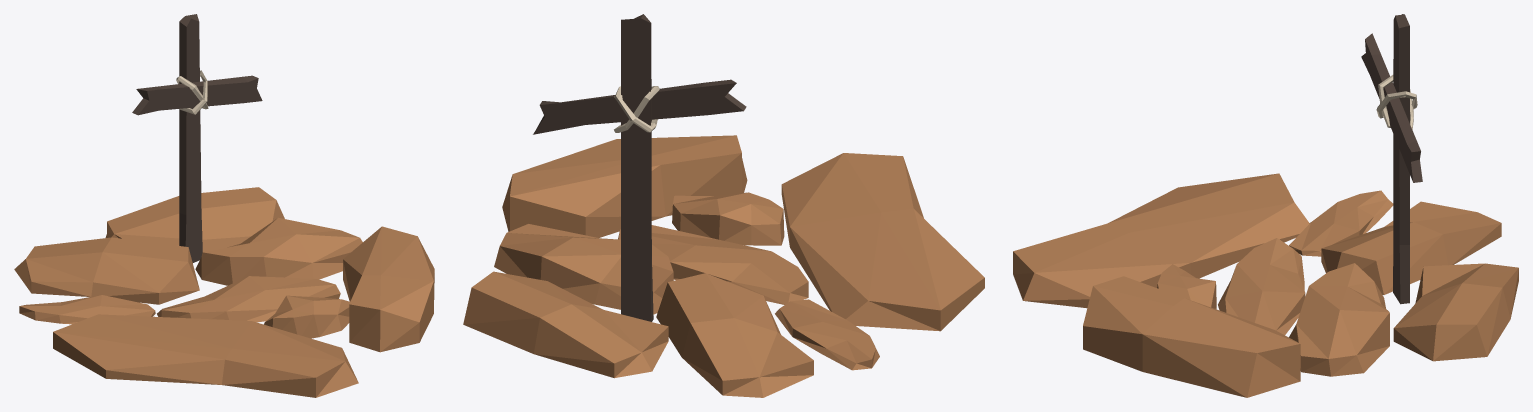
File: Grave_4.fbx
3 views of the same model, side by side, from view 1: azimuth 30°, elevation 25°; view 2: azimuth 150°, elevation 25°; view 3: azimuth 270°, elevation 25° (orthographic). The views are drawn at different scales.
Visible parts, largest first — view 1: Grave_4; view 2: Grave_4; view 3: Grave_4.
Part boxes in pixels (x1,y1,x2,y2): Grave_4: [14, 14, 434, 397]; Grave_4: [463, 14, 984, 397]; Grave_4: [1013, 14, 1518, 397].
Size of the model in its own units: 143 by 149 by 91.63.
